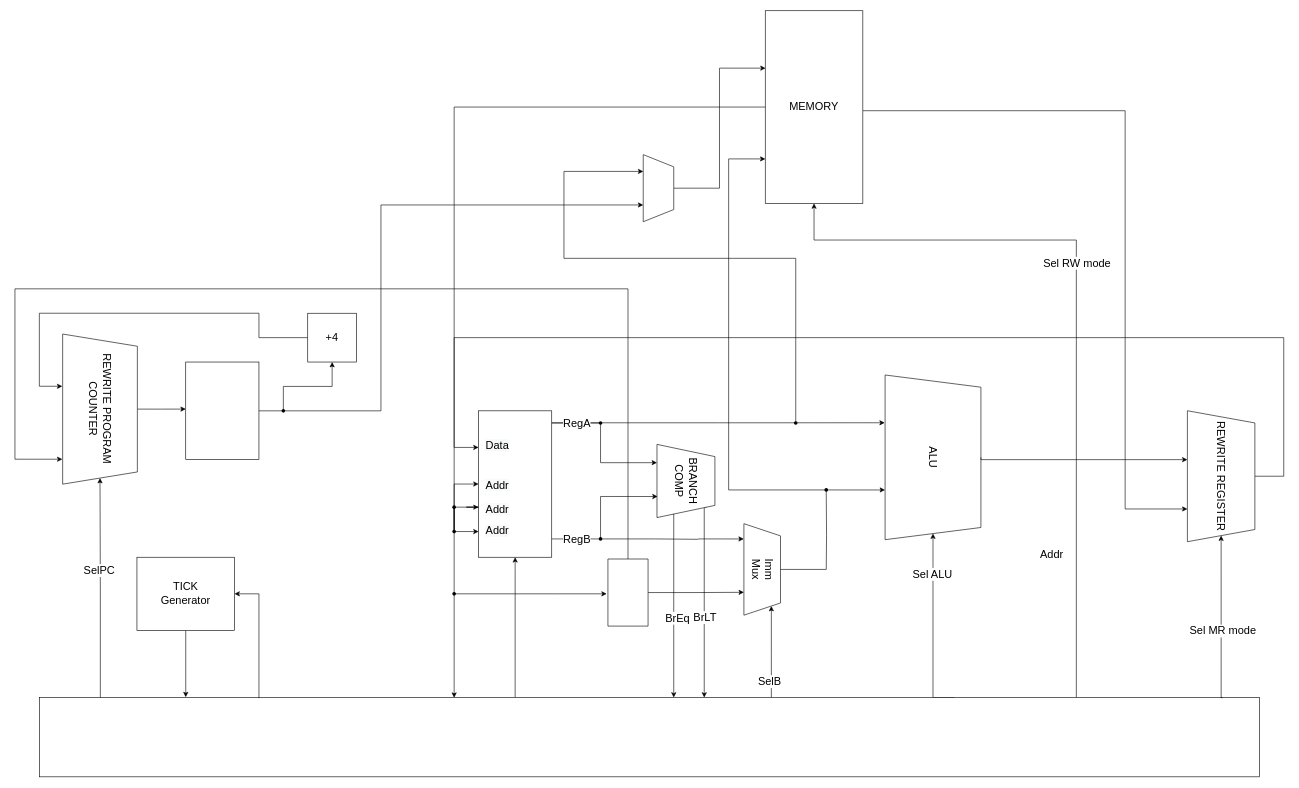
This 1299x788 diagram has some shape labels left out. Each missing label, with the box of its shape:
Imm Generator: (607, 558, 648, 626)
INSTRUCTIONS DECODER: (39, 697, 1259, 777)
MUX ADDR: (643, 154, 674, 222)
PROGRAM COUNTER: (185, 361, 259, 460)
